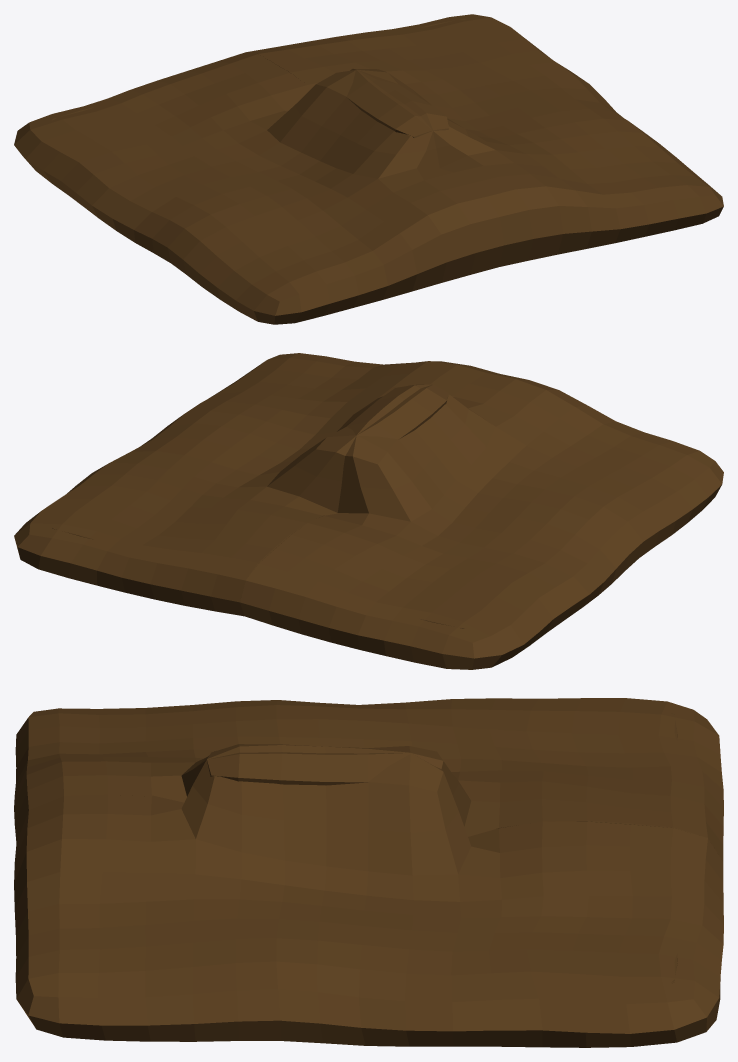
File: Ground_Tile_Two.fbx
3 renders of one model, top to bottom at view 1: azimuth 30°, elevation 25°; view 2: azimuth 150°, elevation 25°; view 3: azimuth 270°, elevation 25°, orthographic. The views are drawn at different scales.
Visible parts, largest first — view 1: Cube.001; view 2: Cube.001; view 3: Cube.001.
Part boxes in pixels (x1,y1,x2,y2): Cube.001: [14, 14, 723, 324]; Cube.001: [14, 353, 723, 669]; Cube.001: [14, 698, 723, 1047].
Bounding box in the file's own units: 2928 × 619 × 2701.
